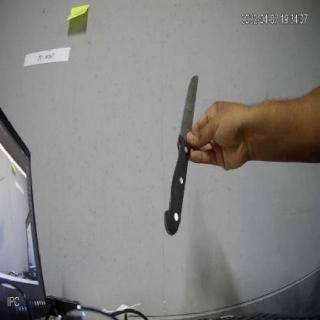knife: (161, 65, 197, 241)
